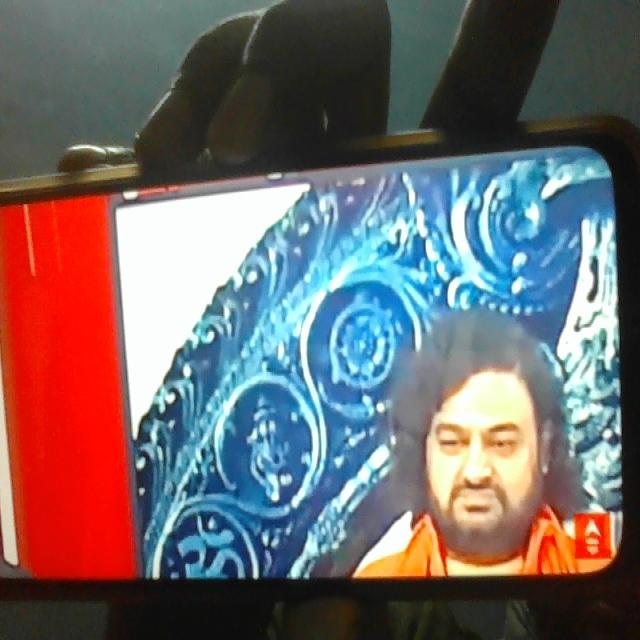fake: (423, 323, 547, 557)
